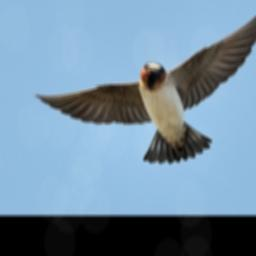Swallow: (34, 5, 256, 164)
